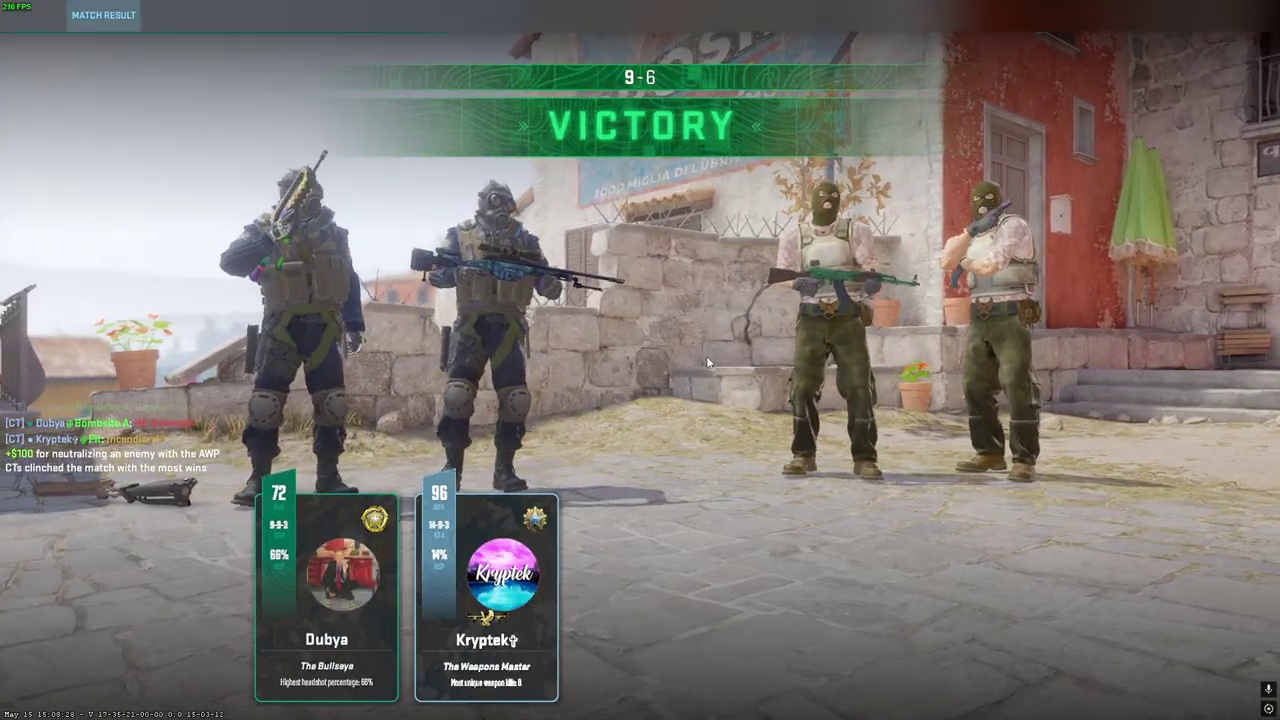CT: (236, 167, 362, 508), (432, 179, 547, 492)
Terrorist: (779, 178, 889, 482), (947, 181, 1048, 483)
